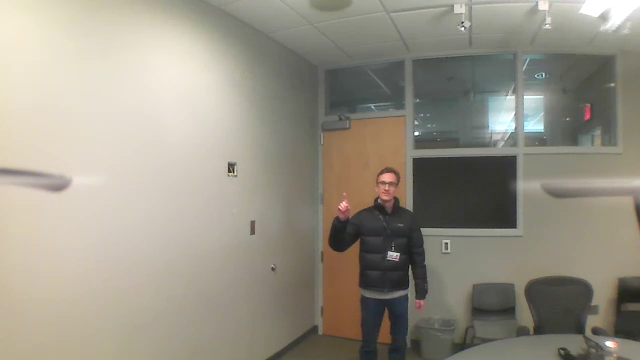up: (336, 192, 351, 220)
